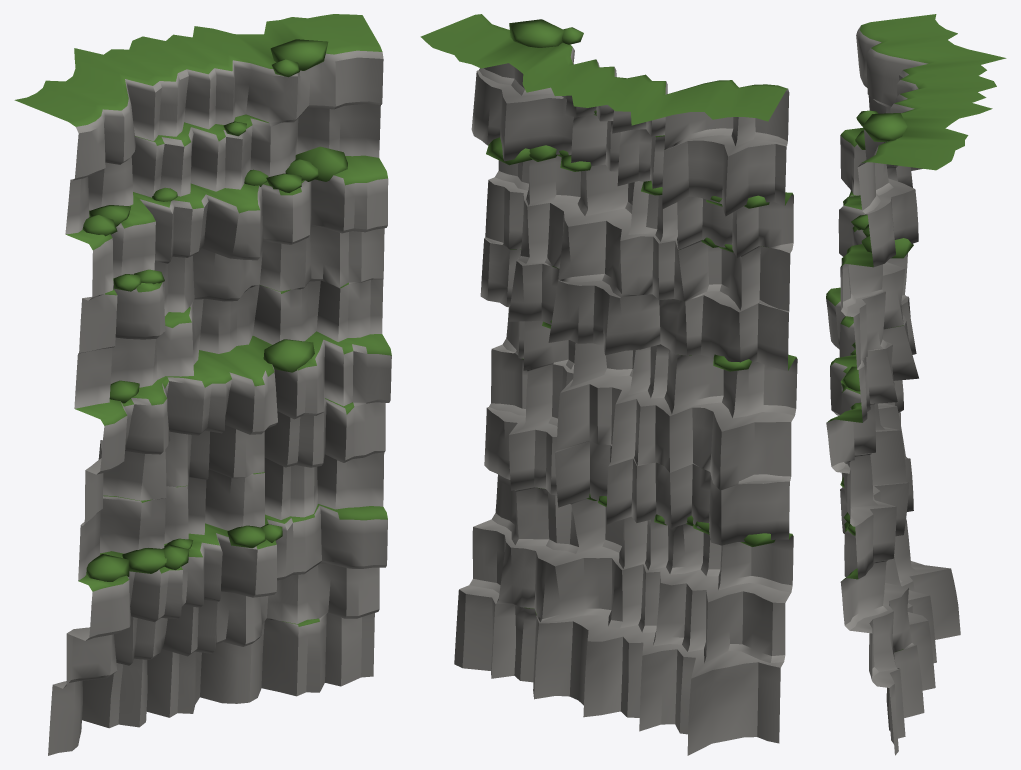
Rendered from cliff_concave_75.glb.
3 views of the same model, side by side, from view 1: azimuth 30°, elevation 25°; view 2: azimuth 150°, elevation 25°; view 3: azimuth 270°, elevation 25° (orthographic). The views are drawn at different scales.
Parts seen in each view (by area): view 1: cliff_concave_75; view 2: cliff_concave_75; view 3: cliff_concave_75.
Part boxes in pixels (left/top/right/bottom): cliff_concave_75: left=14, top=14, right=391, bottom=755; cliff_concave_75: left=420, top=14, right=797, bottom=755; cliff_concave_75: left=826, top=14, right=1006, bottom=755.
Bounding box in the file's own units: 44.86 × 80.54 × 21.92.
